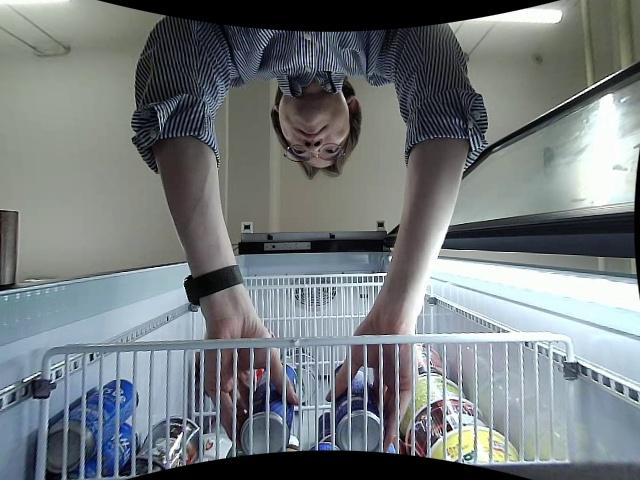00_hand: (203, 324, 299, 446), (327, 322, 415, 451)
16_hot6: (242, 362, 297, 455), (334, 362, 383, 452)
